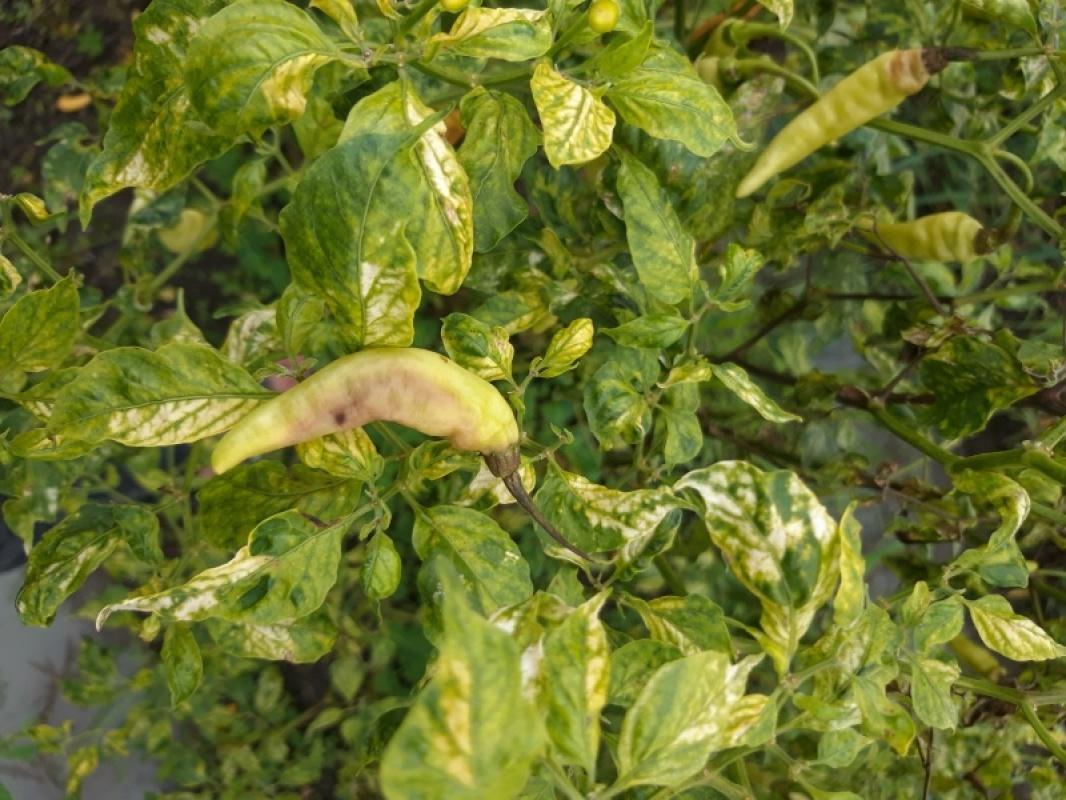cabai_normal: (736, 47, 925, 200), (854, 209, 986, 262)
lalat_buah: (208, 347, 524, 470)
